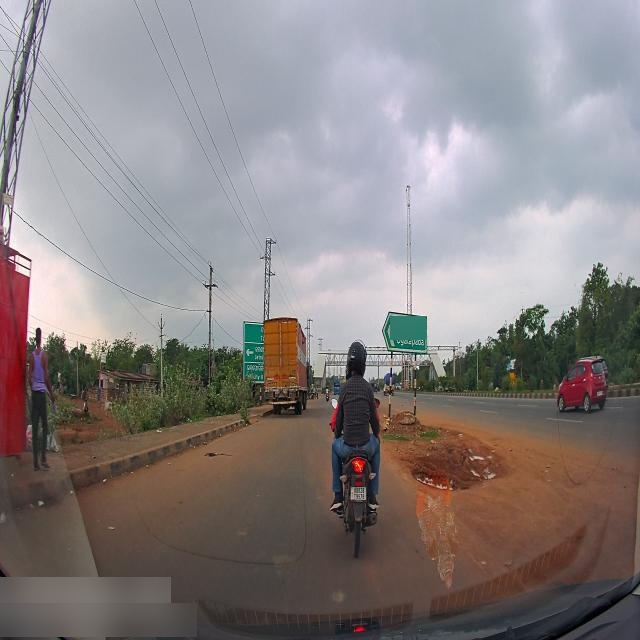pothole: (411, 434, 507, 489)
